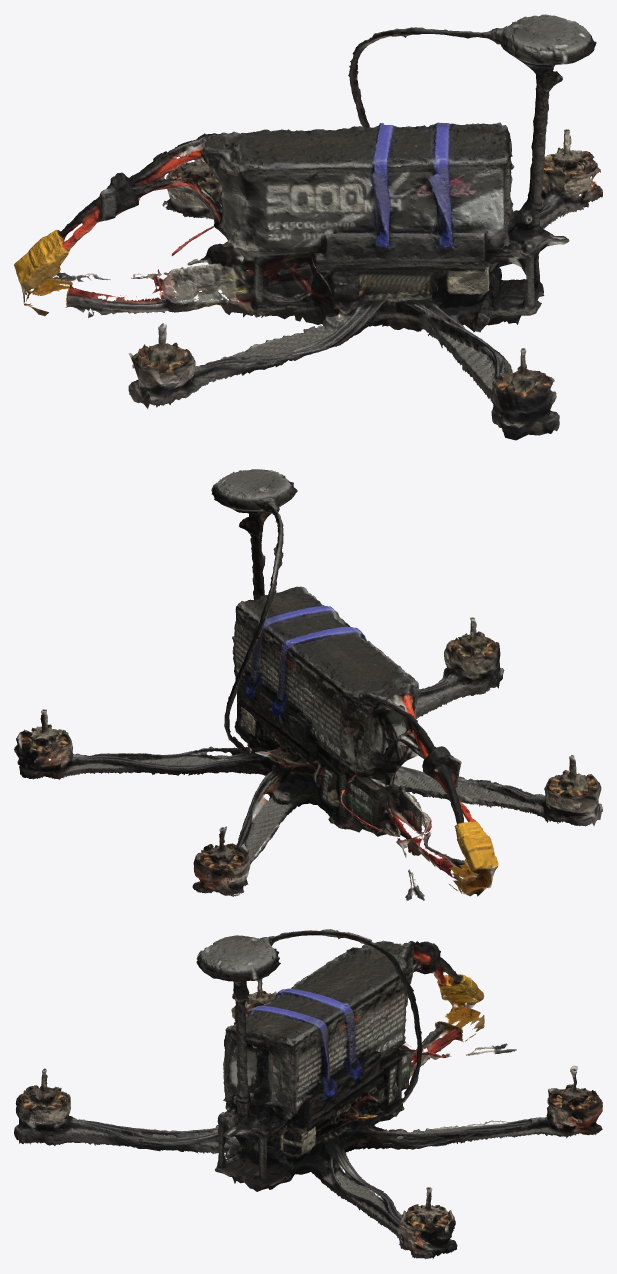
The model's file is drone-mid.glb.
3 views of the same model, one above another, from view 1: azimuth 30°, elevation 25°; view 2: azimuth 150°, elevation 25°; view 3: azimuth 270°, elevation 25° (orthographic). The views are drawn at different scales.
Visible parts, largest first — view 1: Mesh_0_Part_0; view 2: Mesh_0_Part_0; view 3: Mesh_0_Part_0.
Part boxes in pixels (x1=…): Mesh_0_Part_0: x1=14, y1=14, x2=602, y2=440; Mesh_0_Part_0: x1=14, y1=469, x2=602, y2=900; Mesh_0_Part_0: x1=14, y1=929, x2=602, y2=1259.
Size of the model in its own units: 9.56 by 4.76 by 10.
Materials: 1 (1 with a texture image).
